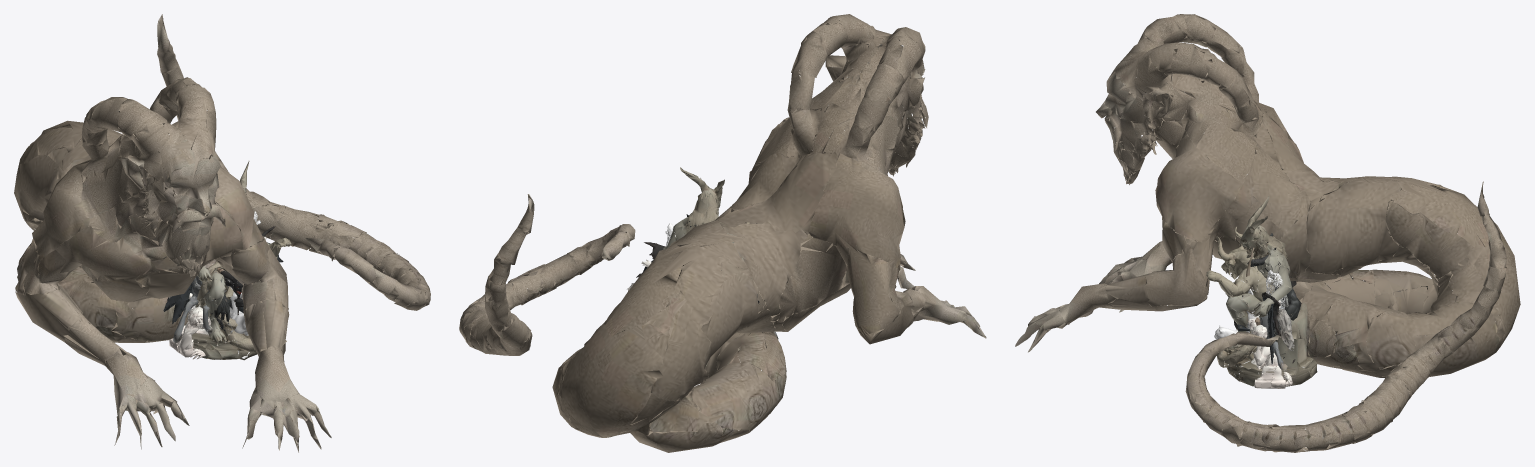
The model's file is inferno_detail.glb.
The picture shows the model from 3 angles, left to right: view 1: azimuth 30°, elevation 25°; view 2: azimuth 150°, elevation 25°; view 3: azimuth 270°, elevation 25°; orthographic projection. The views are drawn at different scales.
Visible parts, largest first — view 1: H|Mon_Geryon_lo, H|Char_Minos_lo, H|Mon_Centaur_lo, H|Fig_LyingProne_lo, H|Mon_Harpy_lo, H|Fig_Demon_lo; view 2: H|Mon_Geryon_lo, H|Char_Minos_lo; view 3: H|Mon_Geryon_lo, H|Char_Minos_lo, H|Mon_Minotaur_lo, H|Fig_LyingBack_lo, H|Mon_Centaur_lo, H|Mon_Plutus_lo.
Boxes of the visible parts, left/top/right/bottom form: H|Mon_Geryon_lo: left=14, top=14, right=430, bottom=452; H|Char_Minos_lo: left=177, top=161, right=277, bottom=360; H|Mon_Centaur_lo: left=169, top=259, right=242, bottom=343; H|Fig_LyingProne_lo: left=179, top=306, right=229, bottom=359; H|Mon_Harpy_lo: left=163, top=242, right=283, bottom=359; H|Fig_Demon_lo: left=163, top=226, right=275, bottom=326; H|Mon_Geryon_lo: left=459, top=14, right=986, bottom=452; H|Char_Minos_lo: left=662, top=167, right=743, bottom=372; H|Mon_Geryon_lo: left=1015, top=14, right=1520, bottom=452; H|Char_Minos_lo: left=1216, top=196, right=1317, bottom=386; H|Mon_Minotaur_lo: left=1206, top=226, right=1302, bottom=367; H|Fig_LyingBack_lo: left=1249, top=325, right=1285, bottom=388; H|Mon_Centaur_lo: left=1246, top=247, right=1294, bottom=370; H|Mon_Plutus_lo: left=1234, top=233, right=1301, bottom=358.
Bounding box in the file's own units: 7.55 × 5.71 × 8.99.
14 materials, 12 textured.
